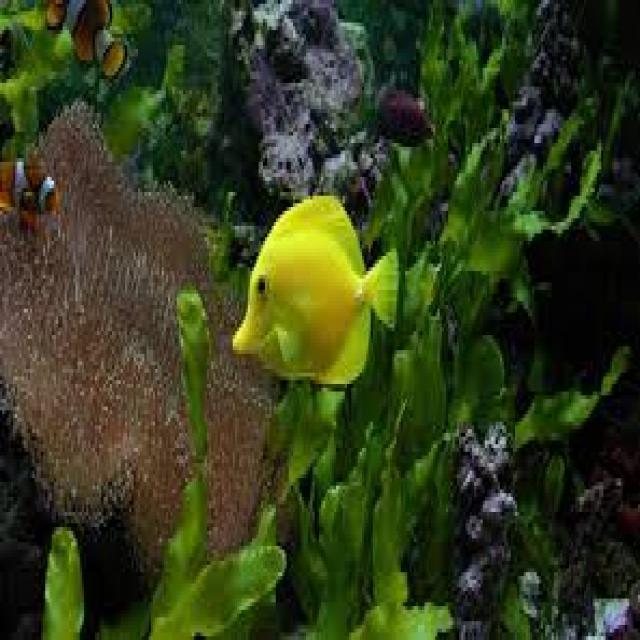YellowTang: (227, 188, 406, 395)
